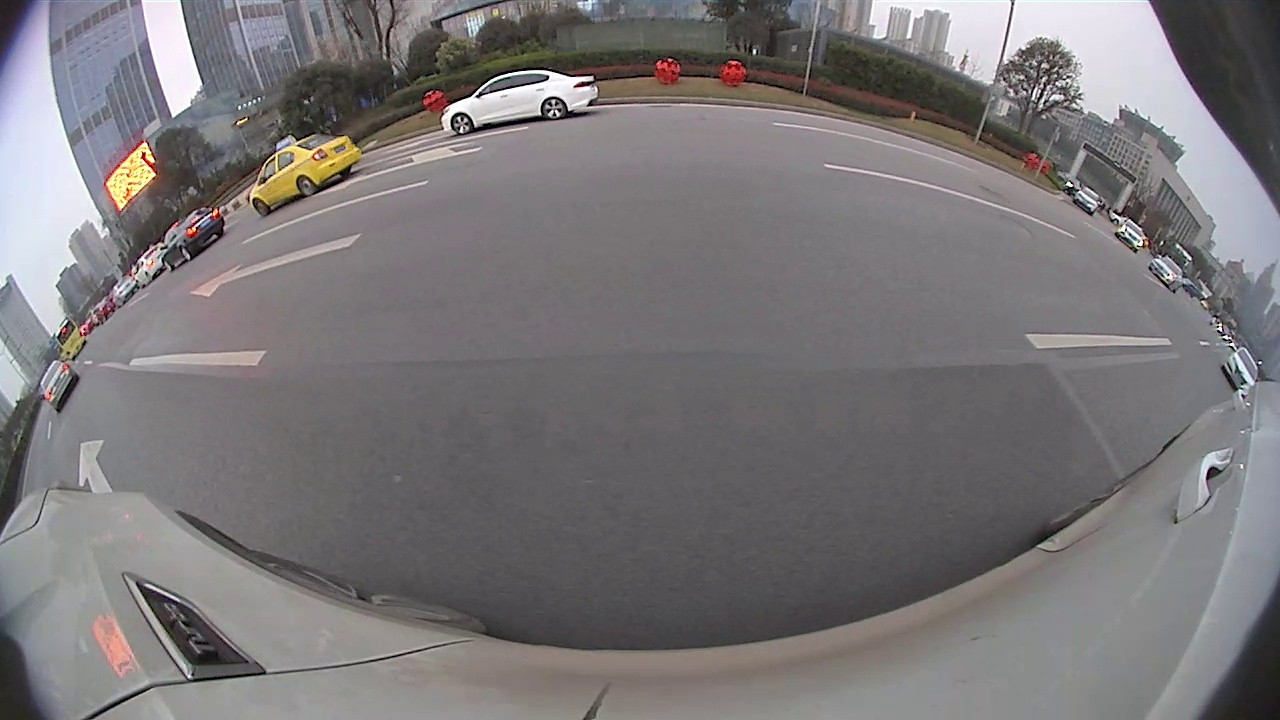car: (439, 69, 598, 138), (250, 132, 363, 218), (161, 207, 226, 273), (40, 359, 80, 410), (1219, 346, 1259, 393), (132, 240, 167, 290), (1149, 252, 1187, 289), (1111, 217, 1145, 250), (1070, 183, 1100, 214)
front: (450, 112, 475, 136), (252, 197, 272, 217), (161, 259, 175, 272)
rear: (540, 97, 569, 122), (296, 174, 319, 197), (337, 166, 353, 181), (179, 245, 194, 260), (214, 227, 225, 237)
